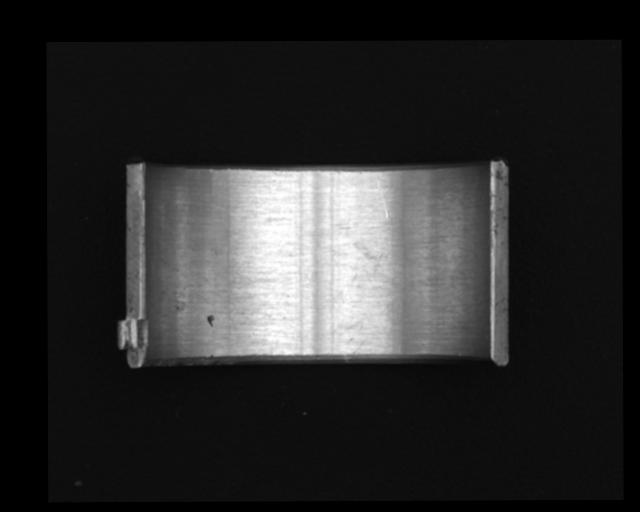blot: (351, 239, 400, 290)
bruise: (205, 313, 216, 329)
nick: (374, 175, 389, 217)
